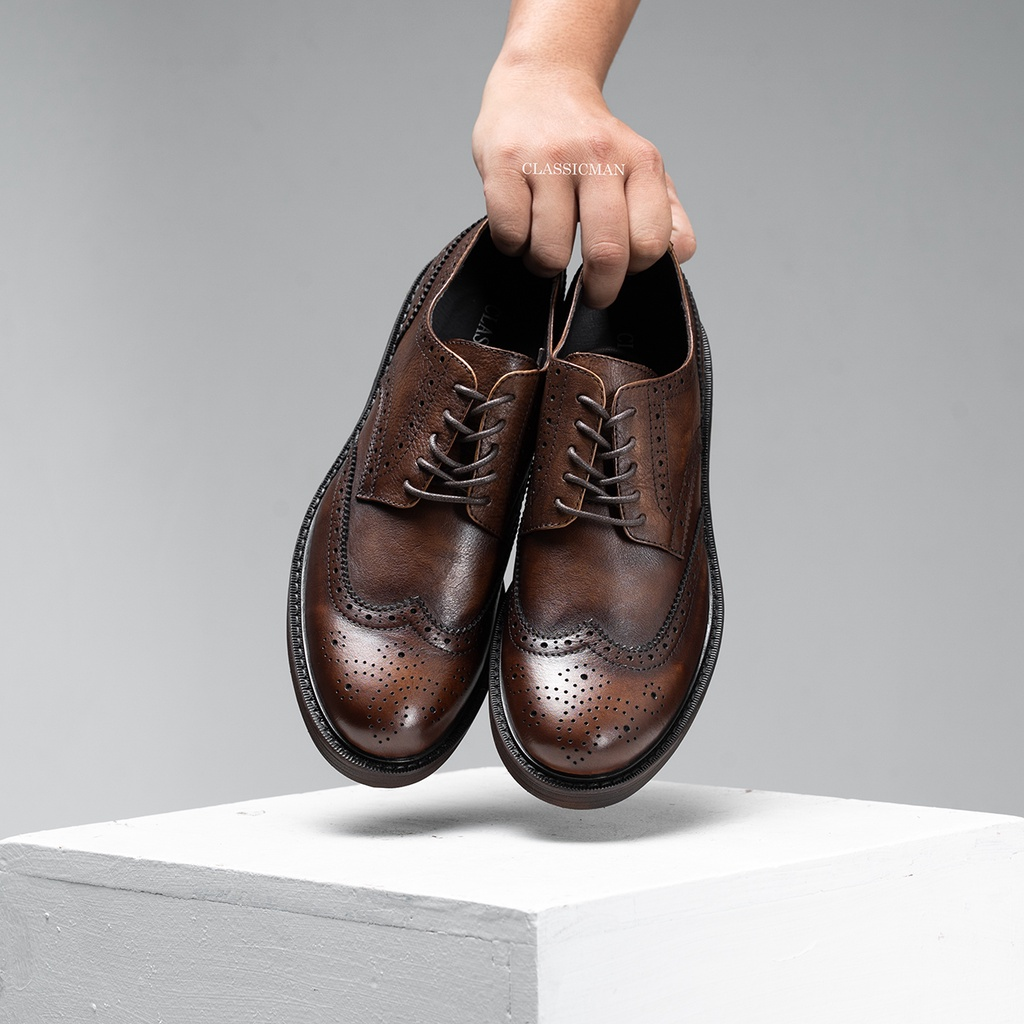derby: (283, 217, 566, 791), (489, 241, 724, 811)
